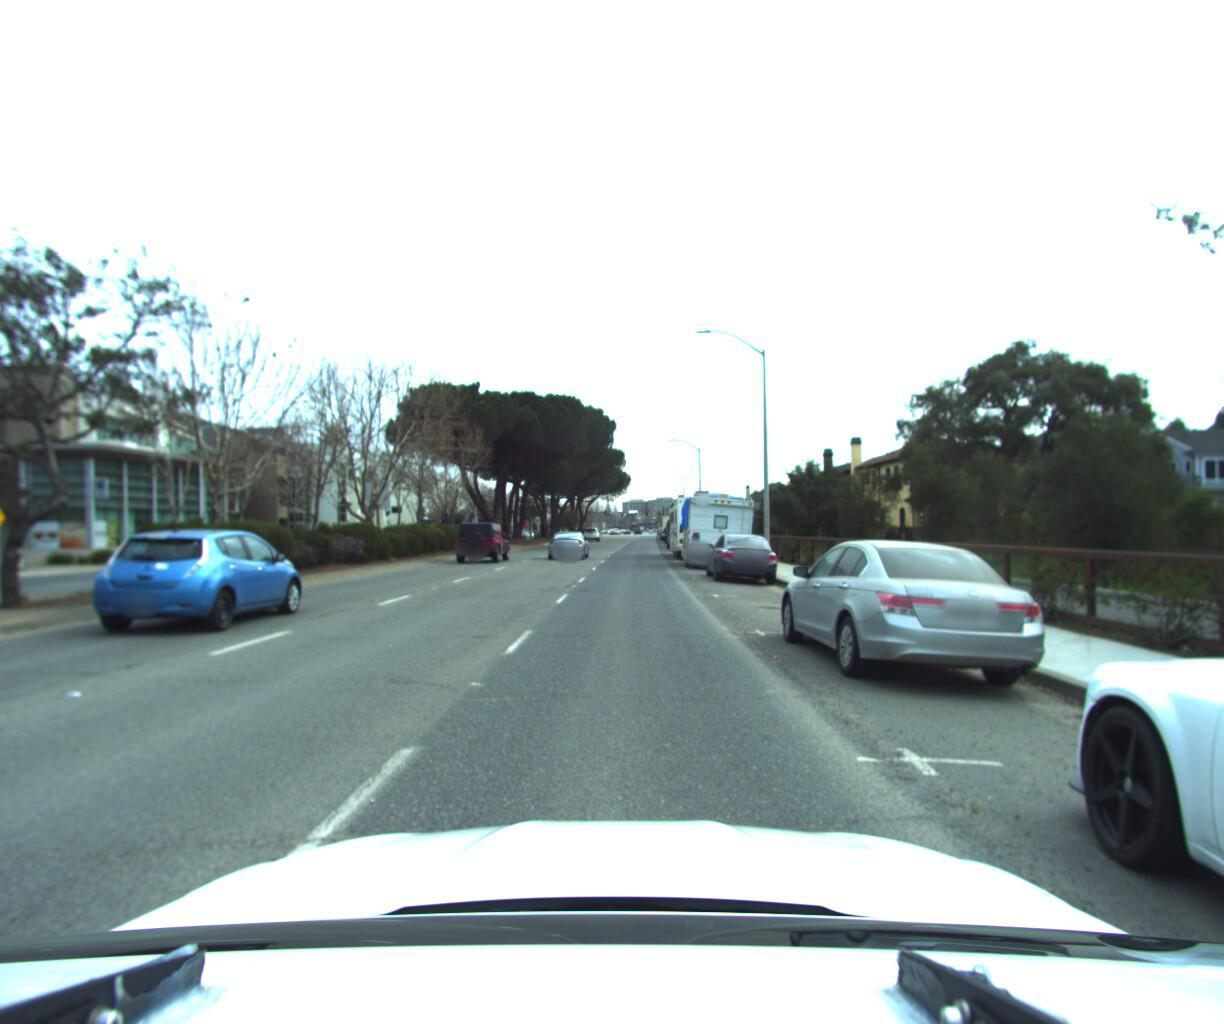car: (778, 531, 1075, 708), (93, 523, 320, 640), (705, 528, 783, 586), (456, 518, 514, 562), (546, 526, 587, 560)
other_vehicle: (681, 486, 759, 569), (668, 483, 734, 559)
